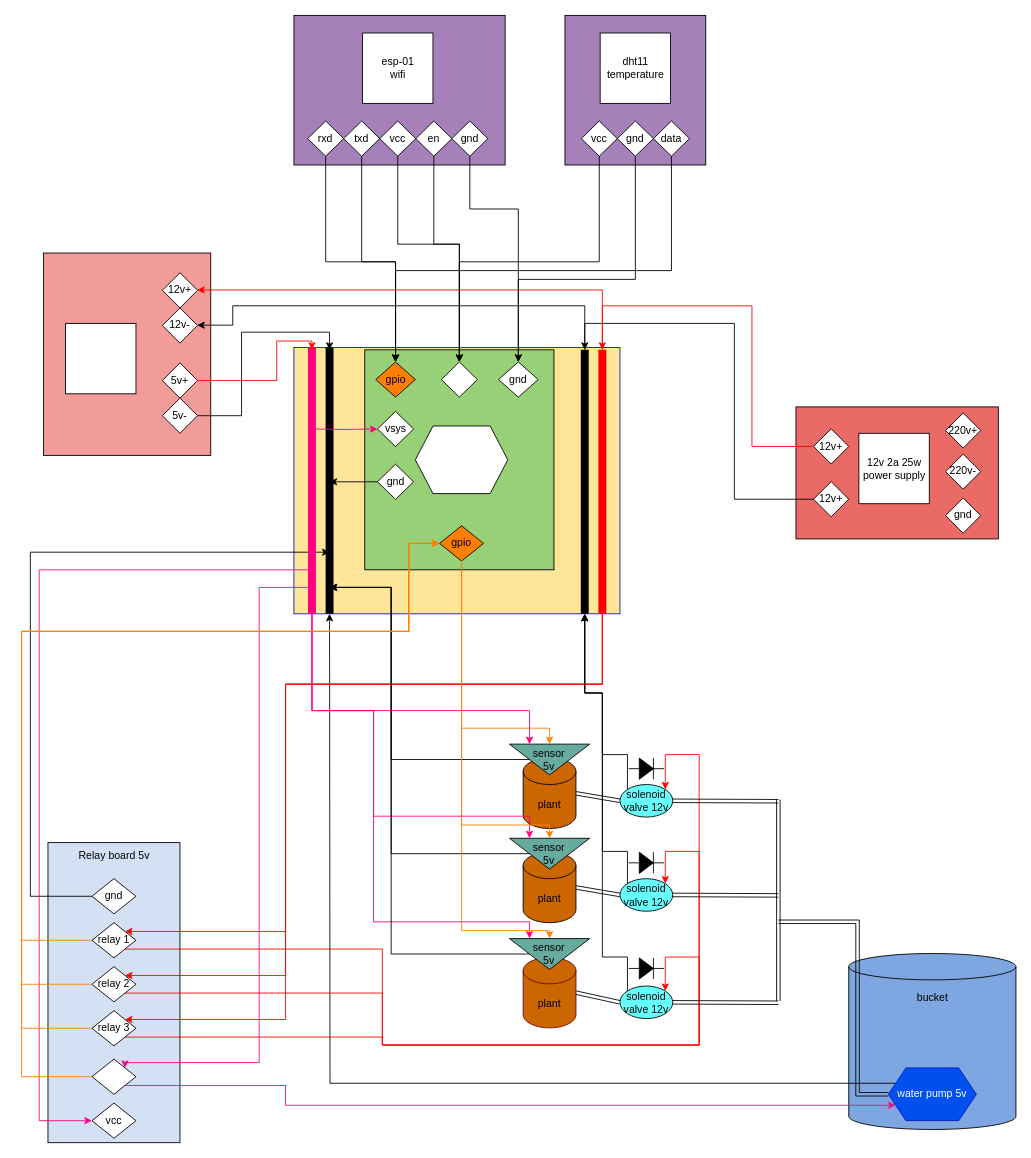
Image size: 1031x1158. Some labels were removed from this diagram. The shapes that lost their labels are listed below. From the top down, each one's centre as x and y in pixels, then its label:
(100,358): 12v to 5v 5a converter
(458,379): 3v
(461,459): raspberry pi pico
(113,1076): relay 4
